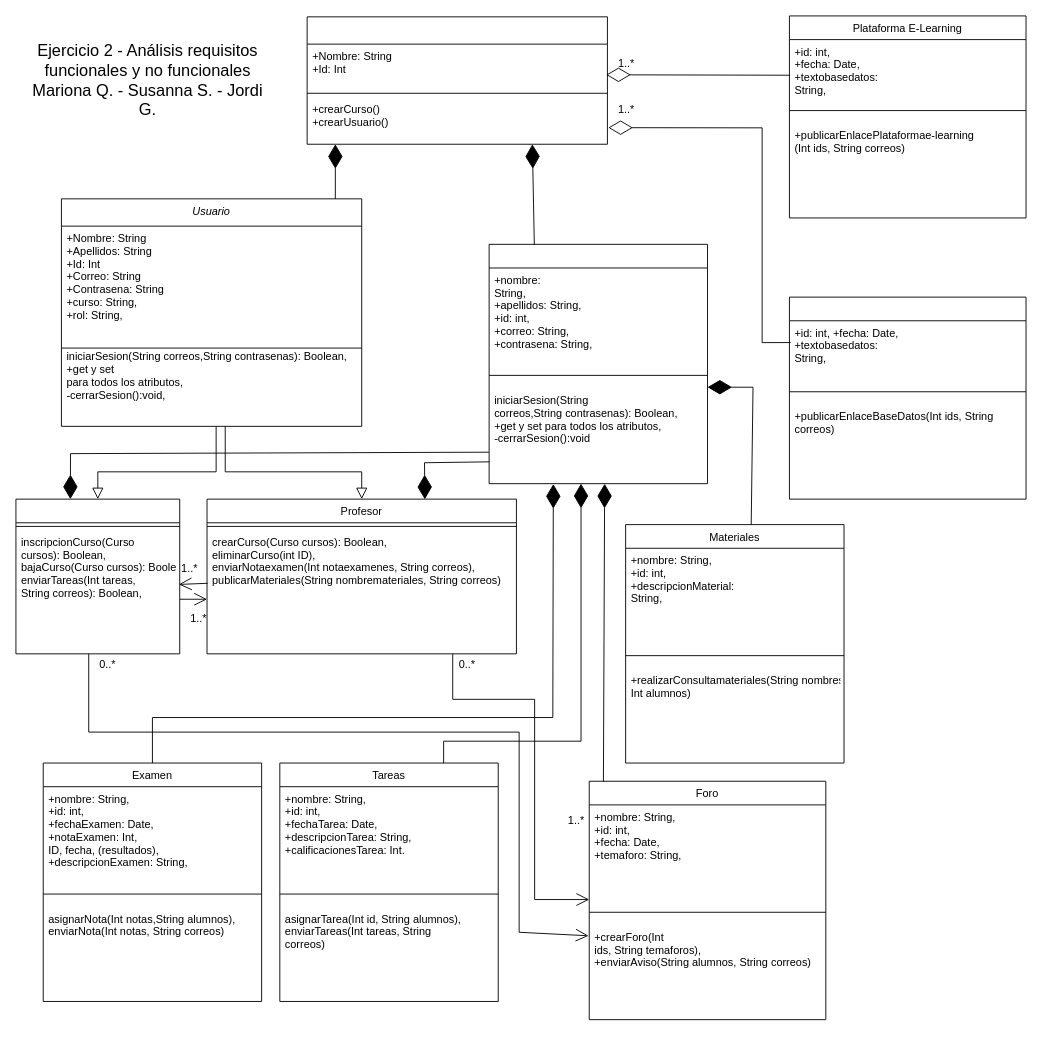
The diagram is 1042 pixels wide and 1038 high, and some of its shapes have lost their labels. The shapes that lost their labels are listed below. From the top down, each one's box as (x1, y1, x2, y2) in pixels, then its label:
(306, 16, 607, 144): Sitema
(488, 243, 708, 484): Curso
(789, 296, 1026, 499): Base Datos Bibliografica
(15, 498, 180, 654): Alumno
